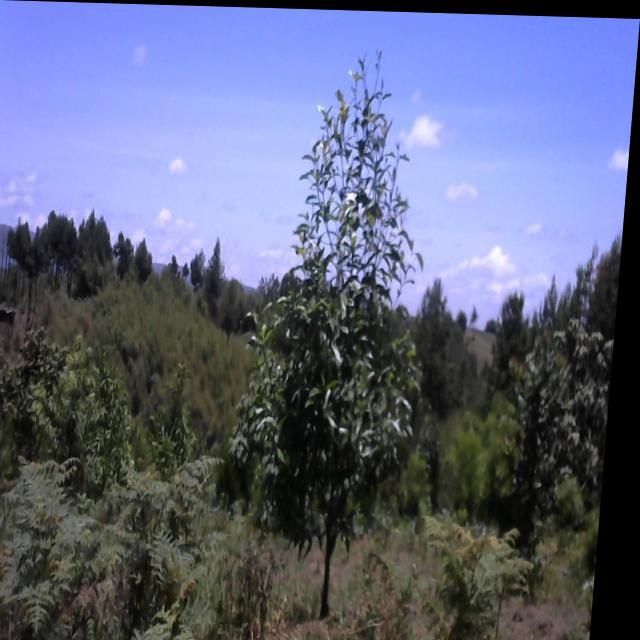Lemon Myrtle: (238, 51, 459, 594)
cedrus: (77, 205, 122, 293), (46, 194, 82, 284), (22, 228, 55, 312), (206, 230, 242, 306), (6, 208, 35, 280), (0, 207, 10, 281)
other: (507, 311, 621, 479)
